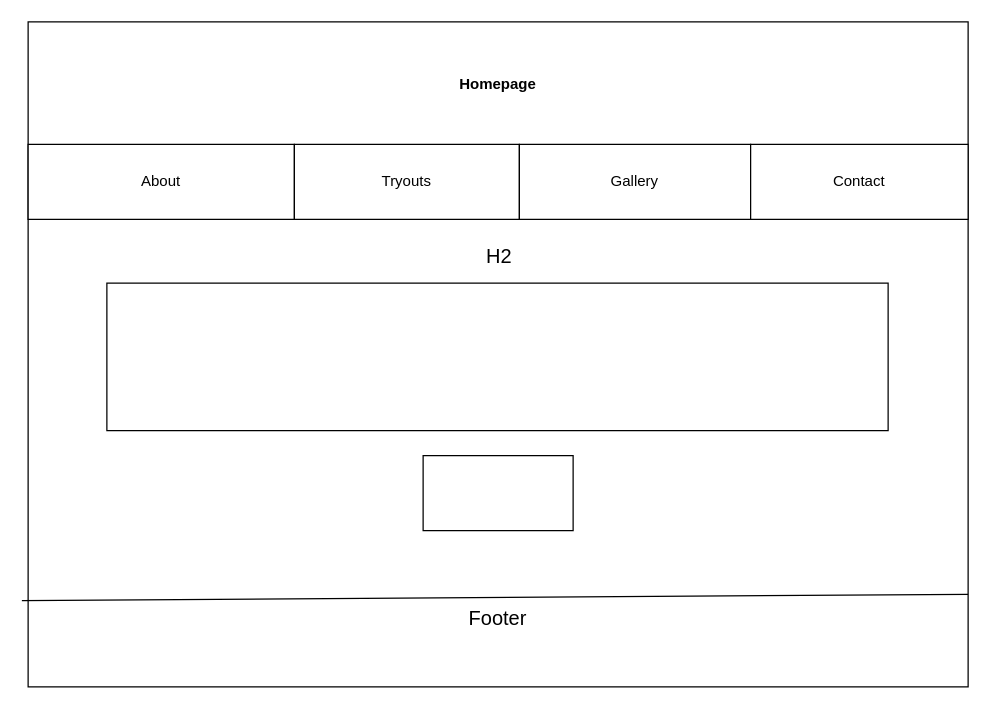
This 990x709 diagram has some shape labels left out. Each missing label, with the box of its shape:
Any more important info: (422, 454, 573, 531)
Introduction to the application (basketball club): (106, 282, 888, 431)
